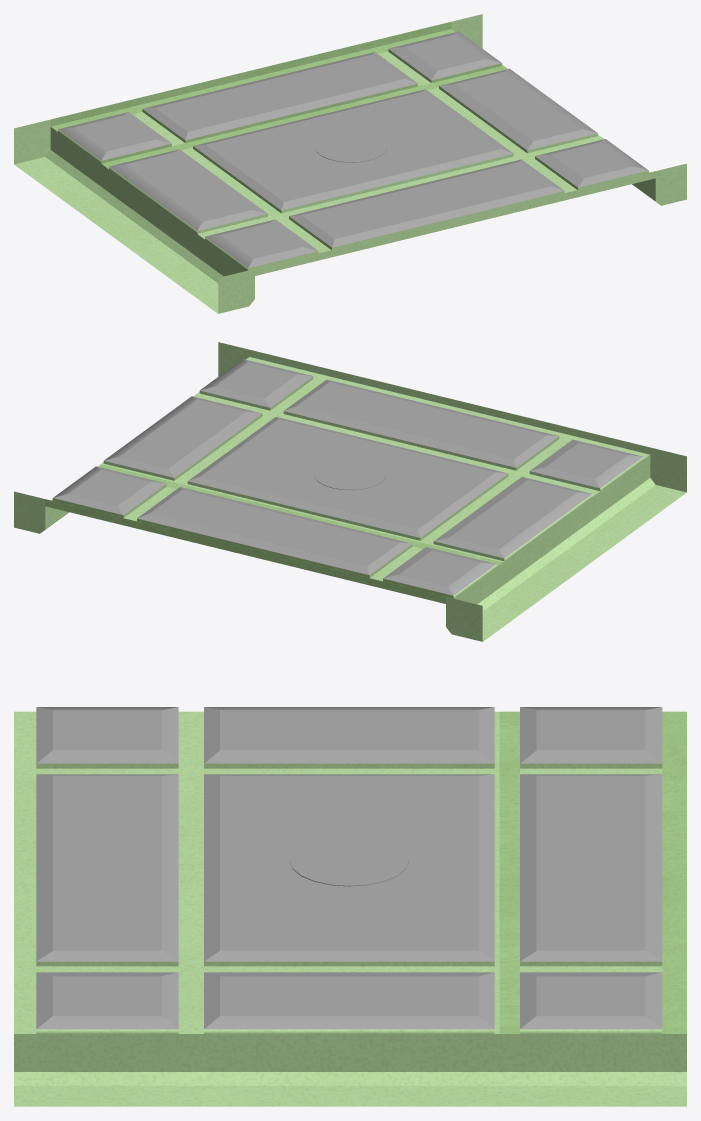
Rendered from SM_plafond.fbx.
The picture shows the model from 3 angles, top to bottom: view 1: azimuth 30°, elevation 25°; view 2: azimuth 150°, elevation 25°; view 3: azimuth 270°, elevation 25°; orthographic projection. The views are drawn at different scales.
Visible parts, largest first — view 1: SM_ornements1, SM_socle_Lustre; view 2: SM_ornements1, SM_socle_Lustre; view 3: SM_ornements1, SM_socle_Lustre.
Part boxes in pixels (left/top/right/bottom): SM_ornements1: left=14, top=14, right=686, bottom=313; SM_socle_Lustre: left=315, top=132, right=387, bottom=162; SM_ornements1: left=14, top=342, right=686, bottom=641; SM_socle_Lustre: left=314, top=459, right=386, bottom=490; SM_ornements1: left=14, top=707, right=686, bottom=1106; SM_socle_Lustre: left=289, top=835, right=408, bottom=886.
Bounding box in the file's own units: 9 × 0.6622 × 6.79.
